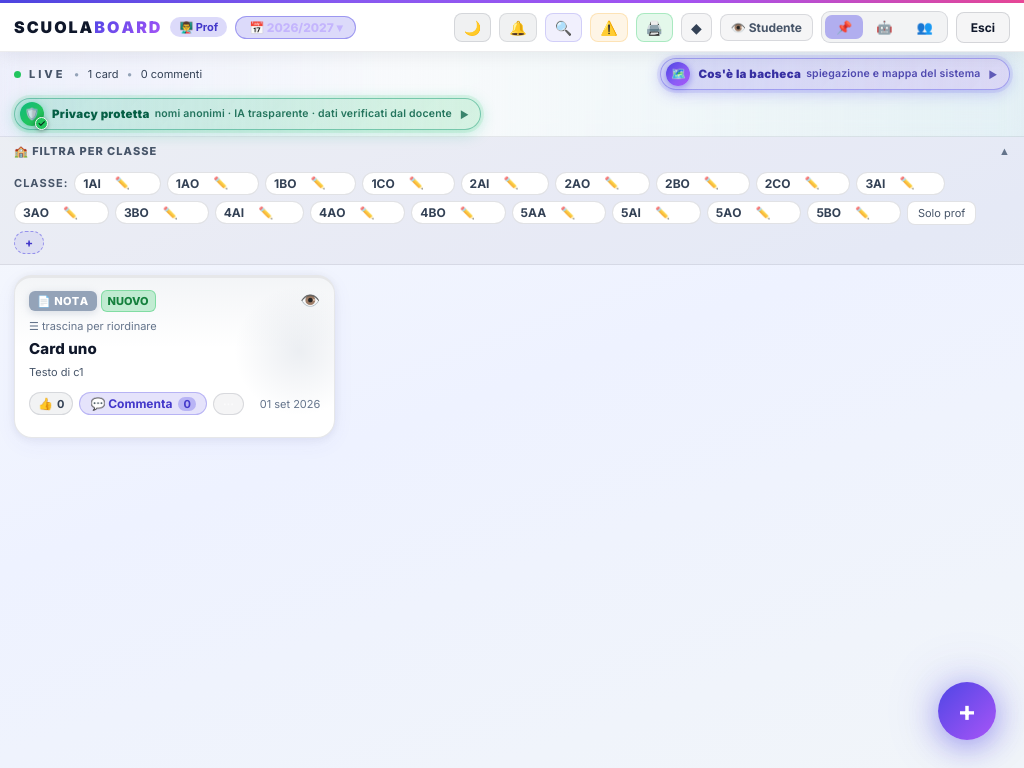
Scenario: Flussi principali — prof › aggiunge un commento a una card
Click the text "Card uno": click(63, 348) [29,338,97,358]
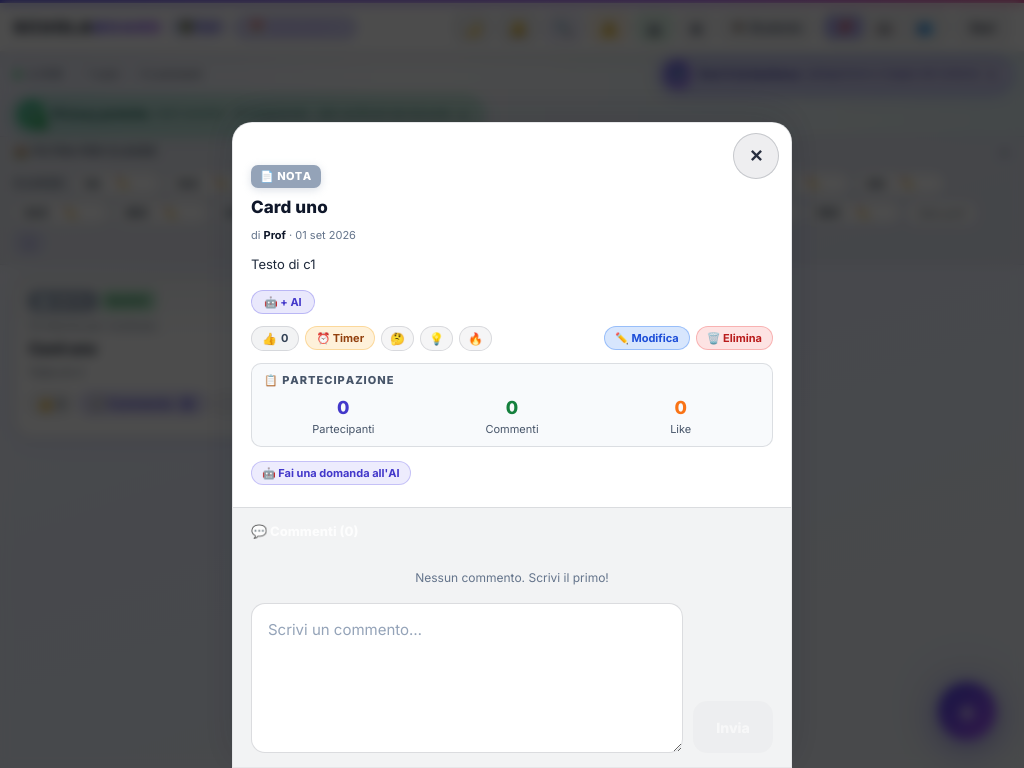
In the text box with placeholder "Scrivi un commento…": (467, 678) [251,603,683,753], type "Ottima lezione!"
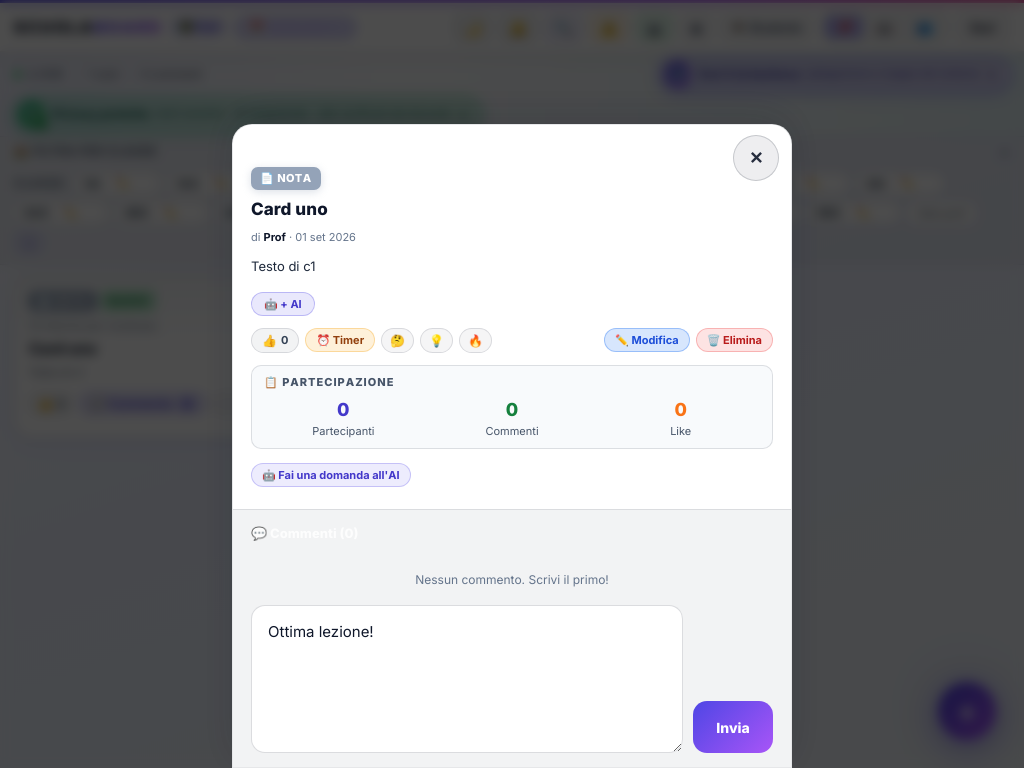
Press Enter in the text box with placeholder "Scrivi un commento…", box [251,605,683,753]
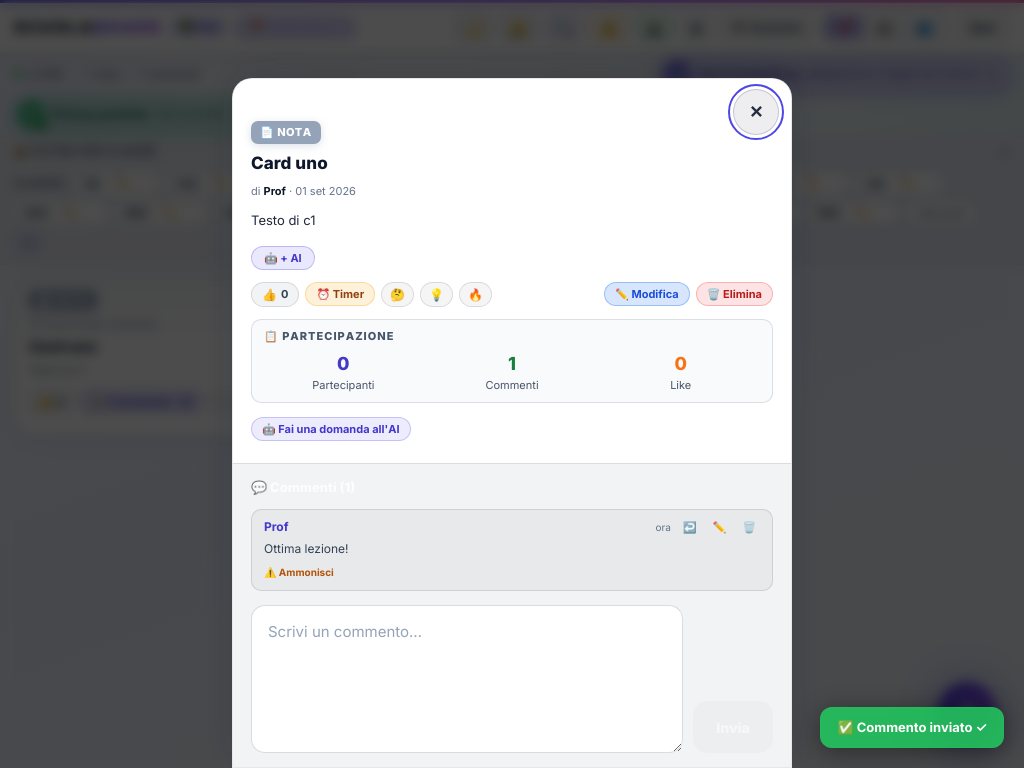
Expected: the text "Ottima lezione!" is shown, [264,541,349,556]
